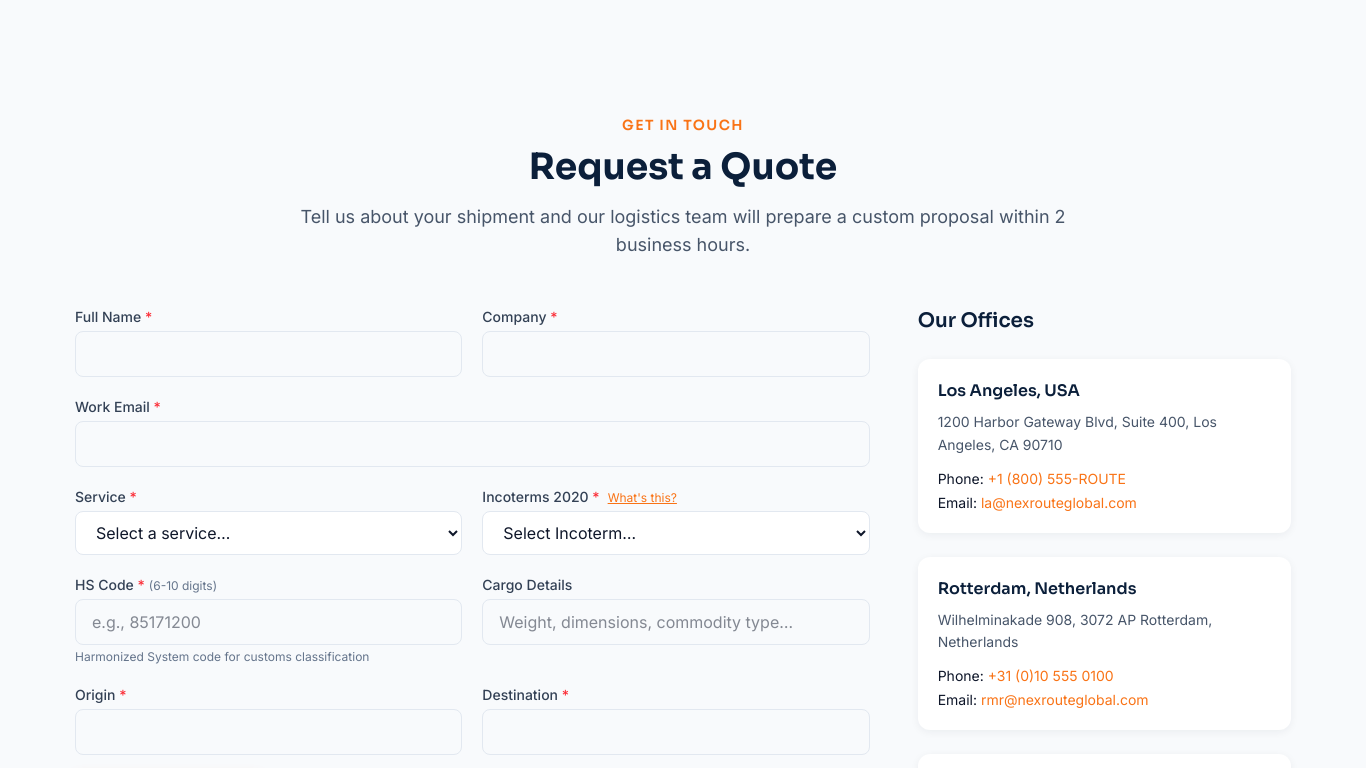
Test: ContactPage › validates HS Code format
In the field labelled "HS Code *(6-10 digits)": {"x": 269, "y": 622} [75,599,462,645], type "123"
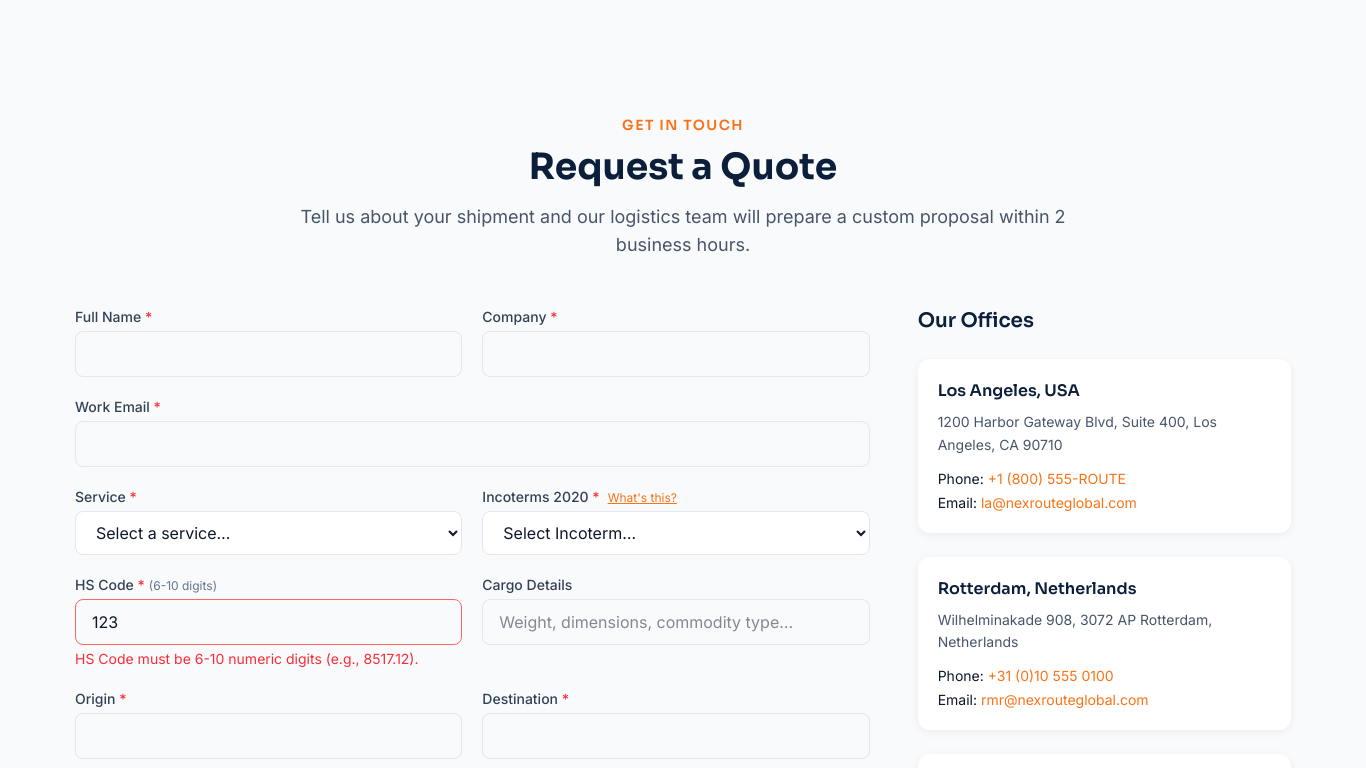
Now the text "HS Code must be 6-10 numeric digits (e.g., 8517.12)." is shown, box [75,649,462,669]
